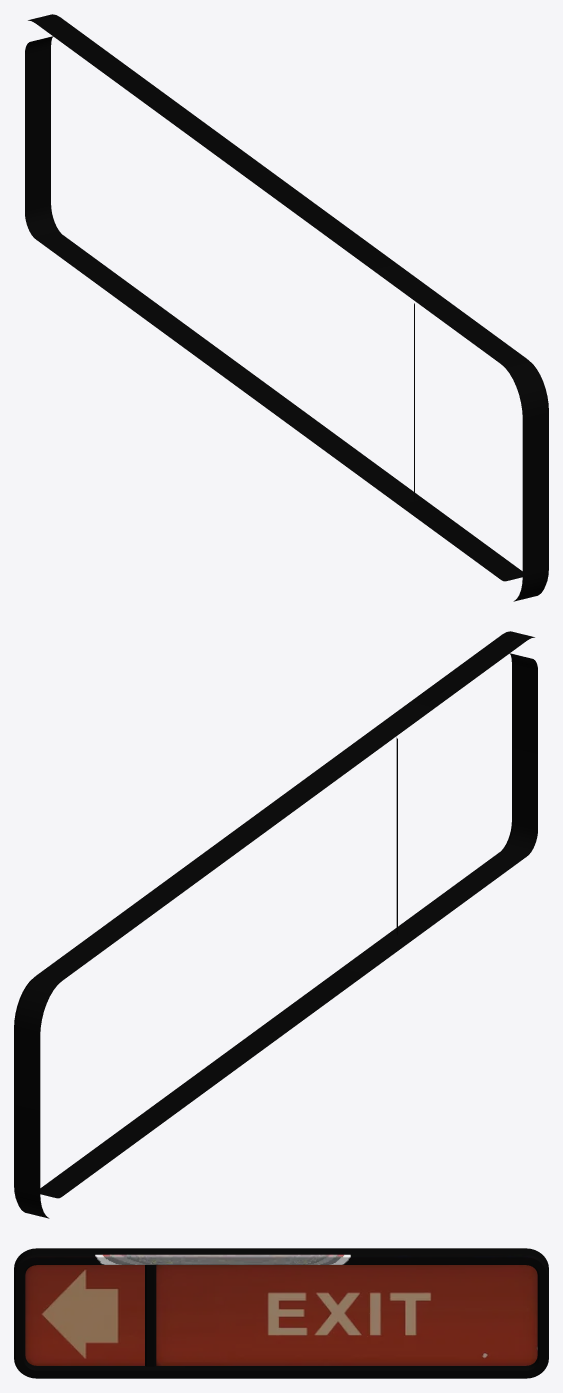
3 renders of one model, top to bottom at view 1: azimuth 30°, elevation 25°; view 2: azimuth 150°, elevation 25°; view 3: azimuth 270°, elevation 25°, orthographic. The views are drawn at different scales.
Parts seen in each view (by area): view 1: body0_model0_lod0_mesh0; view 2: body0_model0_lod0_mesh0; view 3: body0_model0_lod0_mesh0.
Part boxes in pixels (x1,y1,x2,y2): body0_model0_lod0_mesh0: (25,14,548,601); body0_model0_lod0_mesh0: (14,631,537,1218); body0_model0_lod0_mesh0: (14,1248,548,1378).
Bounding box in the file's own units: 2.99 × 24 × 94.
Materials: 1 (1 with a texture image).
